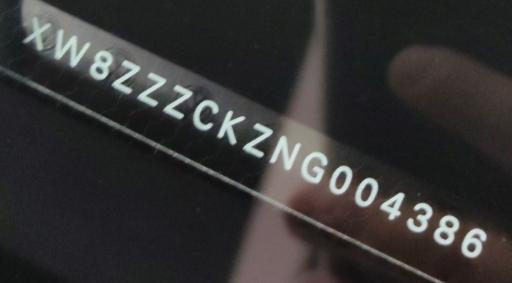letter: (52, 26, 92, 69), (239, 121, 275, 158), (267, 134, 301, 171), (134, 71, 166, 108), (215, 109, 247, 146), (110, 59, 142, 95), (162, 84, 194, 120), (21, 15, 51, 53), (300, 149, 328, 186), (431, 212, 461, 246), (192, 98, 220, 134), (404, 201, 434, 234), (378, 191, 408, 223), (458, 226, 488, 258), (352, 175, 380, 209), (88, 49, 114, 82), (328, 164, 352, 195)
